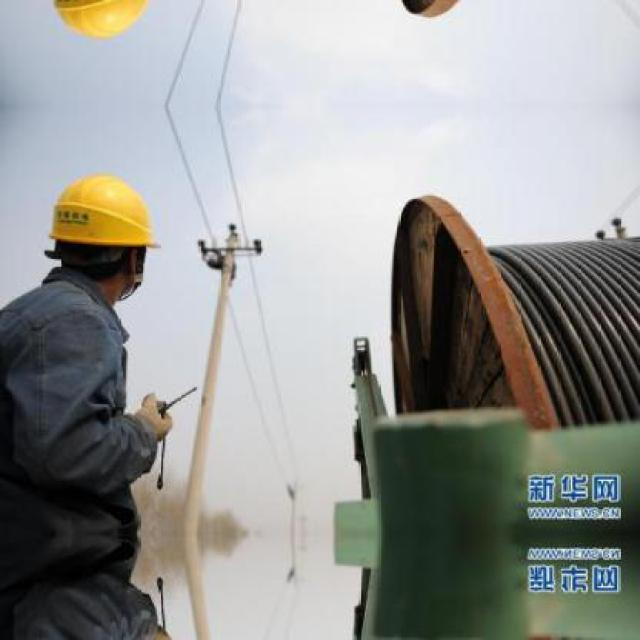helmet: (39, 156, 161, 302), (38, 0, 162, 57)
